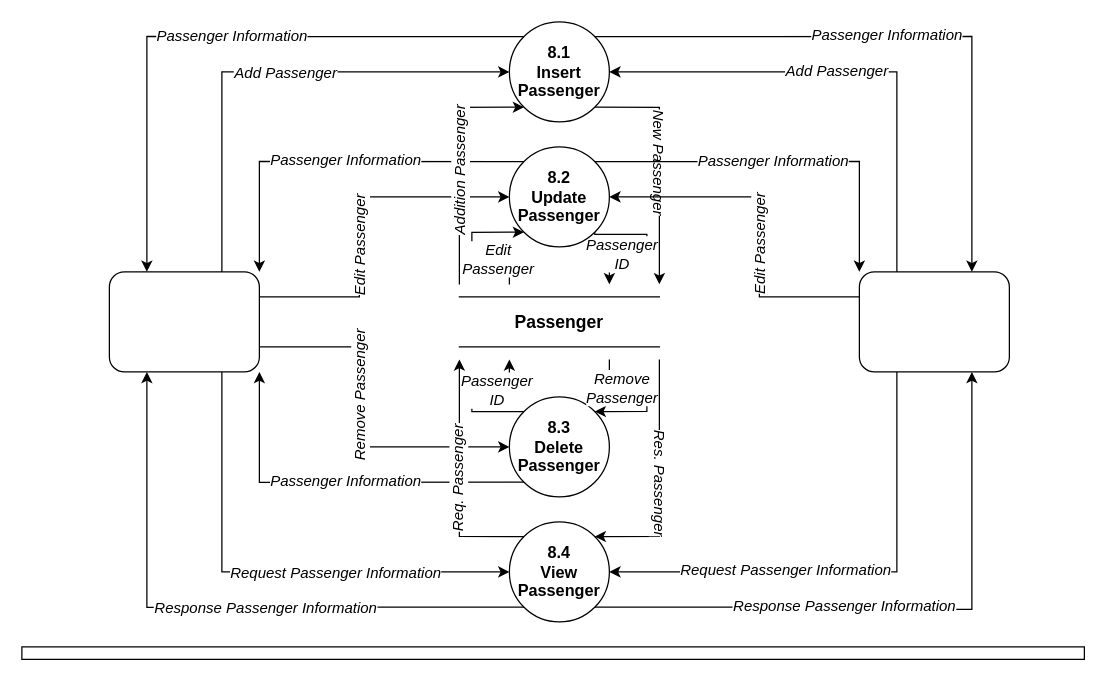
Image size: 1106x681. Some labels were removed from this diagram. The centre of each missing label's shape, as x and y in pixels:
"ADMIN [ OWNER ]" goes at point 183,321.
"USERS [ PASSENGER ]" goes at point 933,321.
